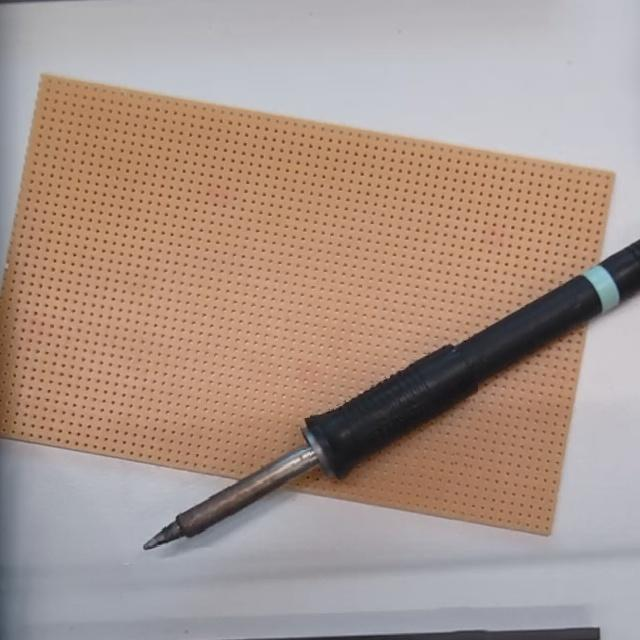soldering_iron: (143, 237, 640, 554)
